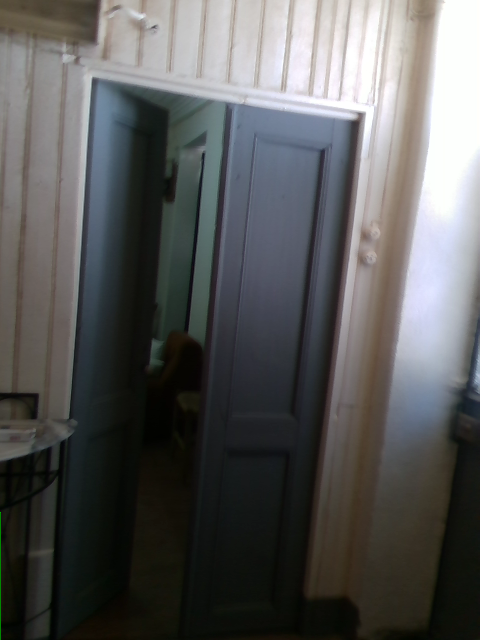semi: (49, 61, 372, 618)
